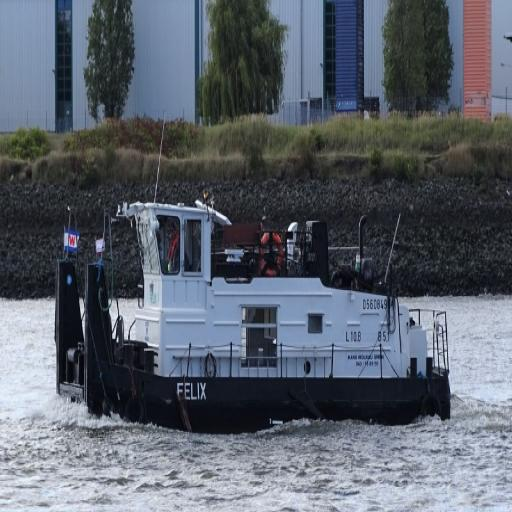tugboat: (52, 192, 456, 432)
